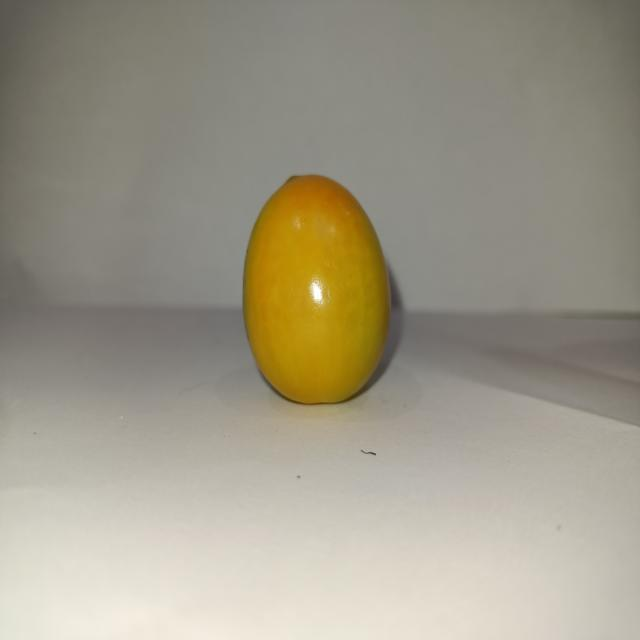Red: (241, 172, 392, 405)
